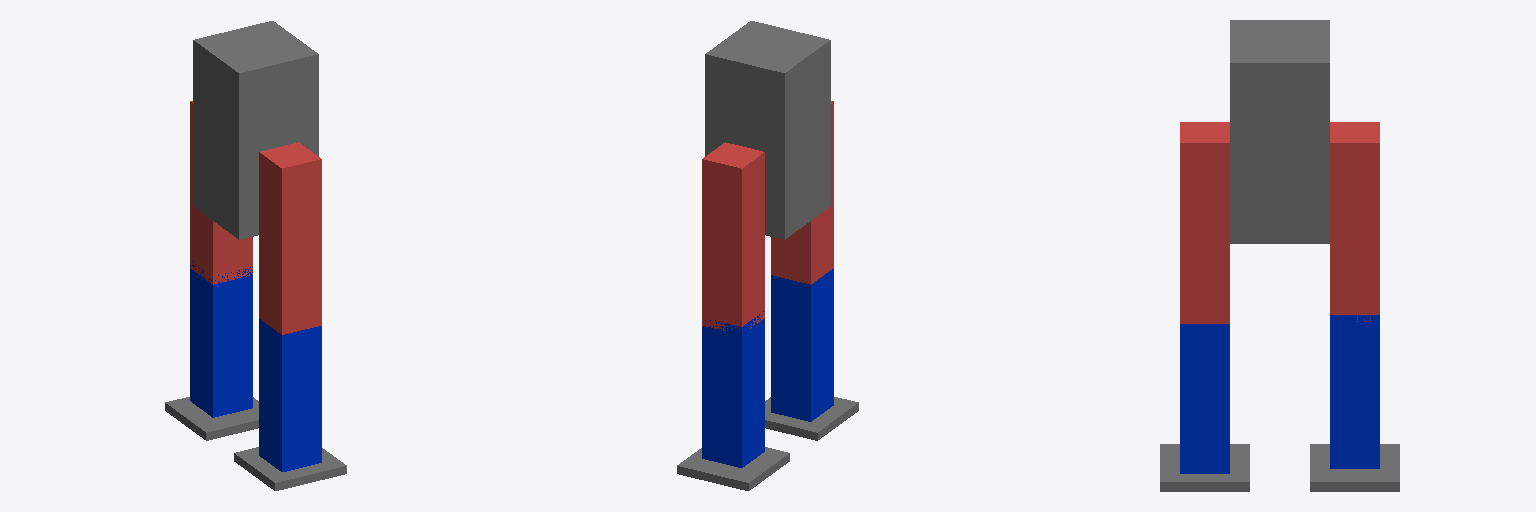
The robot description file, URDF, robot "one_legged_robot":
<?xml version="1.0" ?>

<robot name="one_legged_robot">

  <!--
    Base
  -->
  
  <!-- color setting -->
  <material name="grey">
    <color rgba="0.5 0.5 0.5 1.0"/>
  </material>
  
  <material name="blue">
    <color rgba="0.01 0.26 0.87 1.0"/>
  </material>
  
  <material name="red">
    <color rgba="0.85 0.33 0.31 1.0"/>
  </material>

  <link name="base">
    <visual>
      <origin rpy="0 0 0" xyz="0 0 0"/>
      <geometry>
        <box size="0.001 0.001 0.001"/>
      </geometry>
    </visual>
  </link>

  <joint name="floating_base" type="fixed">
    <origin rpy="0 0 0" xyz="0 0 0"/>
    <parent link="base"/>
    <child link="trunk"/>
  </joint>
  <link name="trunk">
    <inertial>
      <origin xyz="0.0 0.0 0.0" rpy="0 0 0"/>
      <mass value="5" />
      <inertia ixx="0.020833"
               ixy="0"
               ixz="0"
               iyy="0.020833"
               iyz="0"
               izz="0.0083333" />
    </inertial>
    <visual>
      <origin xyz="0.0 0.0 0.0" rpy="0 0 0" />
      <geometry>
        <box size ="0.1 0.1 0.2"/>
      </geometry>
      <material name="">
        <color rgba="0.5 0.5 0.5 1.0"/>
      </material>
    </visual>
    <collision>
      <origin xyz="0.0 0.0 0.0" rpy="0 0 0"/>
      <geometry>
        <box size = "0.1 0.1 0.2"/>
      </geometry>
    </collision>
  </link>

  <!--
    right leg
  -->

  <joint name="r_thigh" type="revolute">
    <origin xyz="0 -0.05 0.0" rpy="0 0 0"/>
    <parent link ="trunk"/>
    <child link = "R_THIGH"/>
    <axis xyz = "0 1 0"/>
    <limit lower ="0" upper ="0" effort="0" velocity="0"/>
  </joint>
  <link name = "R_THIGH">
    <inertial>
      <origin xyz ="0.0 -0.025 -0.1" rpy="0 0 0"/>
      <mass value ="2"/>
      <inertia ixx="0.00708333" ixy="0" ixz="0" iyy="0.00708333" iyz="0" izz="0.00083333"/>
    </inertial>
    <visual>
      <origin xyz ="0.0 -0.025 -0.1" rpy="0 0 0"/>
      <geometry>
        <box size ="0.05 0.05 0.2"/>
      </geometry>
      <material name="">
    <color rgba="0.85 0.33 0.31 1.0"/>
      </material>
    </visual>
    <collision>
      <origin xyz="0.0 -0.025 -0.1" rpy="0 0 0"/>
      <geometry>
        <box size = "0.05 0.05 0.2"/>
      </geometry>
    </collision>  
  </link>

  <joint name ="r_knee" type="revolute">
    <origin xyz=" -0.025 -0.025 -0.2" rpy="0 0 0"/>
      <parent link ="R_THIGH"/>
      <child link = "R_calf"/>
      <axis xyz = "0 1 0"/>
      <limit lower ="0" upper ="0" effort="0" velocity="0"/>
  </joint>
  <link name = "R_calf">
    <inertial>
      <origin xyz ="0.025 0.0 -0.085" rpy="0 0 0"/>
      <mass value ="1.5"/>
      <inertia ixx="0.003925" ixy="0" ixz="0" iyy="0.003925" iyz="0" izz="0.000625"/>
    </inertial>
    <visual>
      <origin xyz ="0.025 0.0 -0.085" rpy="0 0 0"/>
      <geometry>
        <box size ="0.05 0.05 0.17"/>
      </geometry>
      <material name="">
        <color rgba="0.01 0.26 0.87 1.0"/>
      </material>
    </visual>
    <collision>
      <origin xyz="0.025 0.0 -0.085" rpy="0 0 0"/>
      <geometry>
        <box size = "0.05 0.05 0.17"/>
      </geometry>
    </collision>  
  </link>

  <joint name ="R_foot" type="revolute">
    <origin xyz="0.025 0 -0.17" rpy="0 0 0"/>
      <parent link ="R_calf"/>
      <child link = "R_FOOT"/>
      <axis xyz = "0 1 0"/>
      <limit lower ="0" upper ="0" effort="0" velocity="0"/>
  </joint>
  <link name = "R_FOOT">
    <inertial>
      <origin xyz ="0 0 0" rpy="0 0 0"/>
      <mass value ="0.2"/>
      <inertia ixx="0.00013677" ixy="0" ixz="0" iyy="0.00013677" iyz="0" izz="0.00027"/>
    </inertial>
    <visual>
      <origin xyz ="0 0 0" rpy="0 0 0"/>
      <geometry>
        <box size ="0.09 0.09 0.01"/>
      </geometry>
      <material name="">
        <color rgba="0.5 0.5 0.5 1.0"/>
      </material>
    </visual>
    <collision>
      <origin xyz="0 0 0" rpy="0 0 0"/>
      <geometry>
        <box size = "0.09 0.09 0.01"/>
      </geometry>
    </collision>  
  </link>
  
  <!--
    left leg
  -->
  
  <joint name ="l_thigh" type="revolute">
      <origin xyz="0 0.05 0" rpy="0 0 0"/>
      <parent link ="trunk"/>
      <child link = "L_THIGH"/>
      <axis xyz = "0 1 0"/>
      <limit lower ="0" upper ="0" effort="0" velocity="0"/>
  </joint>
  <link name = "L_THIGH">
    <inertial>
      <origin xyz ="0 0.025 -0.1" rpy="0 0 0"/>
      <mass value ="2"/>
      <inertia ixx="0.00708333" ixy="0" ixz="0" iyy="0.00708333" iyz="0" izz="0.00083333"/>
    </inertial>
    <visual>
      <origin xyz ="0 0.025 -0.1" rpy="0 0 0"/>
      <geometry>
        <box size ="0.05 0.05 0.2"/>
      </geometry>
      <material name="">
    <color rgba="0.85 0.33 0.31 1.0"/>
  </material>
    </visual>
    <collision>
      <origin xyz="0 0.025 -0.1" rpy="0 0 0"/>
      <geometry>
        <box size = "0.05 0.05 0.2"/>
      </geometry>
    </collision>
  </link>



  <joint name ="l_knee" type="revolute">
    <origin xyz="-0.025 0.025 -0.2" rpy="0 0 0"/>
      <parent link ="L_THIGH"/>
      <child link = "L_calf"/>
      <axis xyz = "0 1 0"/>
      <limit lower ="0" upper ="0" effort="0" velocity="0"/>
  </joint>
  <link name = "L_calf">
    <inertial>
      <origin xyz ="0.025 0.0 -0.085" rpy="0 0 0"/>
      <mass value ="1.5"/>
      <inertia ixx="0.003925" ixy="0" ixz="0" iyy="0.003925" iyz="0" izz="0.000625"/>
    </inertial>
    <visual>
      <origin xyz ="0.025 0.0 -0.075" rpy="0 0 0"/>
      <geometry>
        <box size ="0.05 0.05 0.17"/>
      </geometry>
      <material name="">
    <color rgba="0.01 0.26 0.87 1.0"/>
      </material>
    </visual>
    <collision>
      <origin xyz="0.025 0.0 -0.075" rpy="0 0 0"/>
      <geometry>
        <box size = "0.05 0.05 0.17"/>
      </geometry>
    </collision>
  </link>

  <joint name ="L_foot" type="revolute">
    <origin xyz="0.025 0 -0.17" rpy="0 0 0"/>
      <parent link ="L_calf"/>
      <child link = "L_FOOT"/>
      <axis xyz = "0 1 0"/>
      <limit lower ="0" upper ="0" effort="0" velocity="0"/>
  </joint>
  <link name = "L_FOOT">
    <inertial>
      <origin xyz ="0 0 0" rpy="0 0 0"/>
      <mass value ="0.2"/>
      <inertia ixx="0.00013677" ixy="0" ixz="0" iyy="0.00013677" iyz="0" izz="0.00027"/>
    </inertial>
    <visual>
      <origin xyz ="0 0 0" rpy="0 0 0"/>
      <geometry>
        <box size ="0.09 0.09 0.01"/>
      </geometry>
      <material name="">
        <color rgba="0.5 0.5 0.5 1.0"/>
      </material>
    </visual>
    <collision>
      <origin xyz="0 0 0" rpy="0 0 0"/>
      <geometry>
        <box size = "0.09 0.09 0.01"/>
      </geometry>
    </collision>
  </link>

</robot>

--- Render facts (derived) ---
Views: 3 orthographic renders of the robot side by side, from view 1: azimuth 30°, elevation 25°; view 2: azimuth 150°, elevation 25°; view 3: azimuth 270°, elevation 25°.
Robot: one_legged_robot — 8 links, 7 joints (6 revolute, 1 fixed); root link base; default pose: every joint at zero.
Visible links, largest first — view 1: trunk, R_THIGH, R_calf, L_calf, L_THIGH, R_FOOT, L_FOOT; view 2: trunk, L_THIGH, L_calf, R_calf, R_THIGH, L_FOOT, R_FOOT; view 3: trunk, R_THIGH, L_THIGH, L_calf, R_calf, L_FOOT, R_FOOT.
Link boxes in pixels (x1,y1,x2,y2): trunk: [193, 21, 318, 239]; R_THIGH: [259, 142, 321, 334]; R_calf: [259, 319, 321, 471]; L_calf: [190, 261, 252, 417]; L_THIGH: [190, 101, 252, 284]; R_FOOT: [234, 447, 346, 490]; L_FOOT: [165, 397, 258, 440]; trunk: [705, 21, 830, 239]; L_THIGH: [702, 142, 764, 330]; L_calf: [702, 311, 764, 467]; R_calf: [771, 268, 833, 421]; R_THIGH: [771, 101, 833, 284]; L_FOOT: [677, 447, 789, 490]; R_FOOT: [765, 397, 858, 440]; trunk: [1230, 20, 1329, 243]; R_THIGH: [1180, 122, 1229, 323]; L_THIGH: [1330, 122, 1379, 321]; L_calf: [1330, 315, 1379, 468]; R_calf: [1180, 324, 1229, 473]; L_FOOT: [1310, 444, 1399, 491]; R_FOOT: [1160, 444, 1249, 491].
Size in the robot's own frame: 0.1 by 0.24 by 0.475 metres.
Geometry: primitives only (box / cylinder / sphere), no mesh files.
